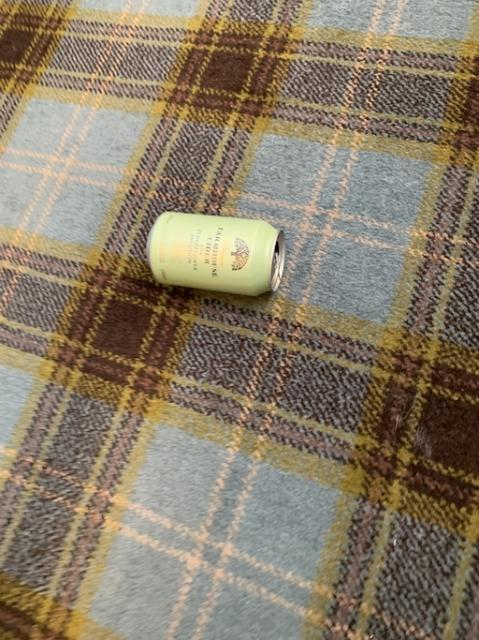metal: (147, 211, 284, 294)
